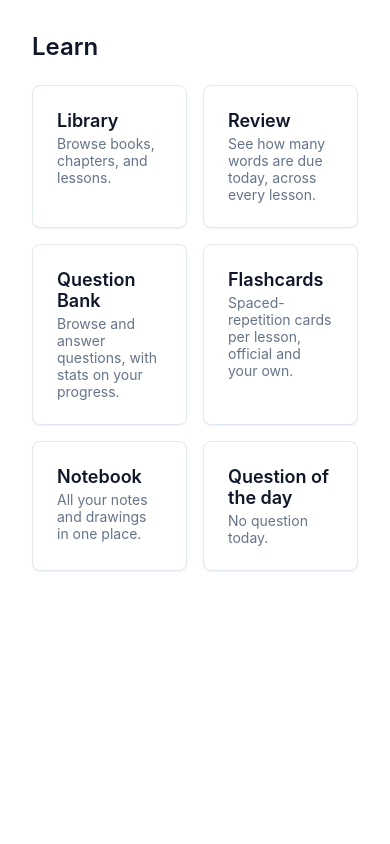
Scenario: a padding day from a neighbouring month is pressable like any other
The image size is (390, 844).
Click the text "Question of the day". click: point(280, 487)
box: x1=228 y1=466 x2=333 y2=508
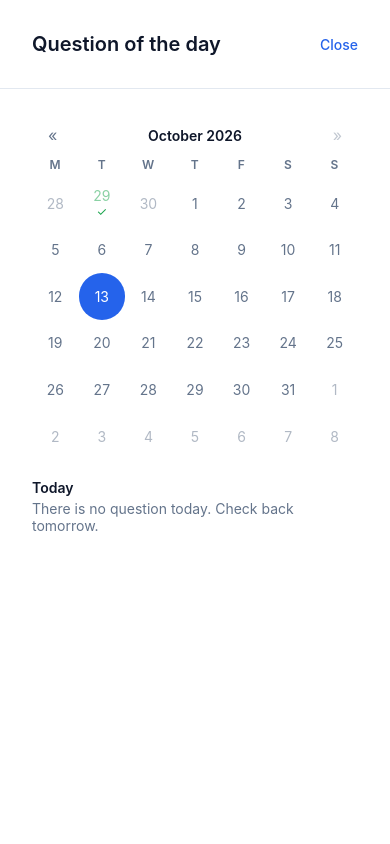
Click the button named "Tuesday, September 29, 2026: Answered correctly". click: point(102, 203)
box: x1=79 y1=180 x2=125 y2=227
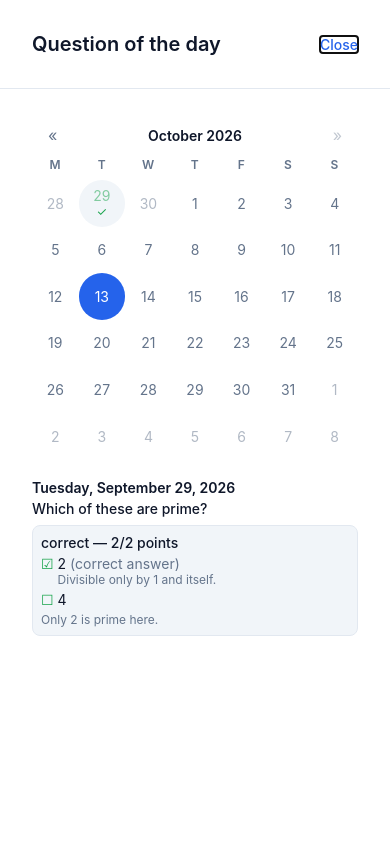
expect the text "correct — 2/2 points" is shown: met, box x1=41 y1=534 x2=178 y2=551
